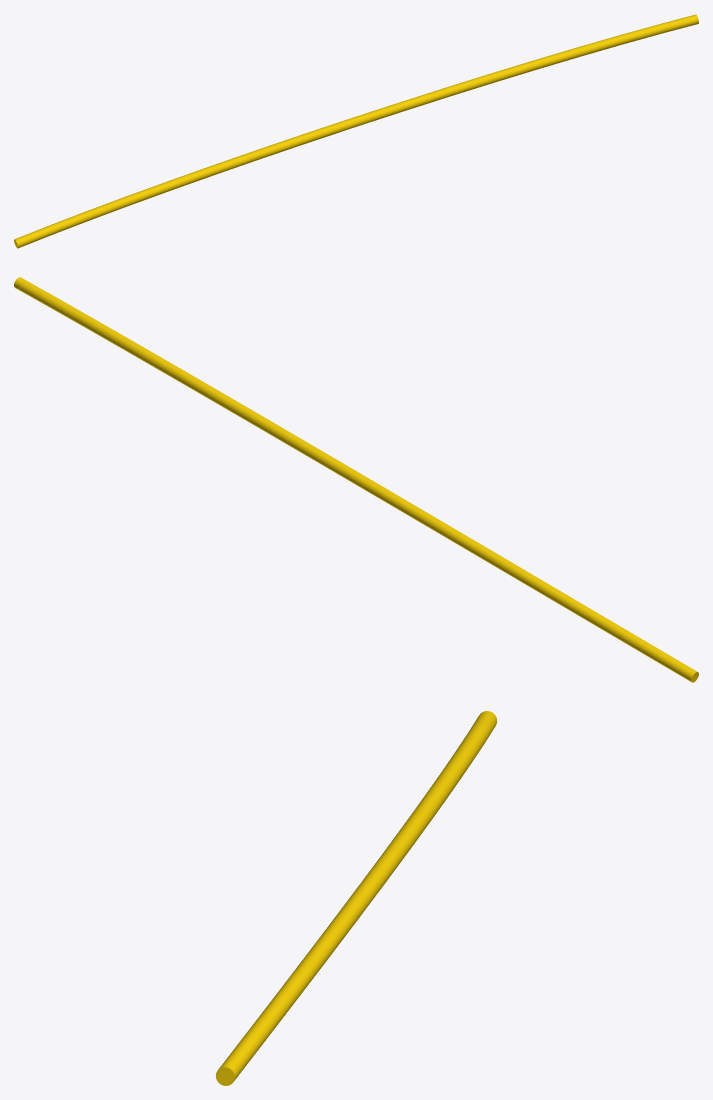
File: Event_420094457_track_24.fbx
The picture shows the model from 3 angles, top to bottom: view 1: azimuth 30°, elevation 25°; view 2: azimuth 150°, elevation 25°; view 3: azimuth 270°, elevation 25°; orthographic projection. The views are drawn at different scales.
Visible parts, largest first — view 1: Model; view 2: Model; view 3: Model.
Part boxes in pixels (x1=…): Model: x1=14, y1=14, x2=698, y2=248; Model: x1=14, y1=277, x2=698, y2=682; Model: x1=215, y1=711, x2=497, y2=1085.
Size of the model in its own units: 2.9 by 0.5885 by 0.5717.
